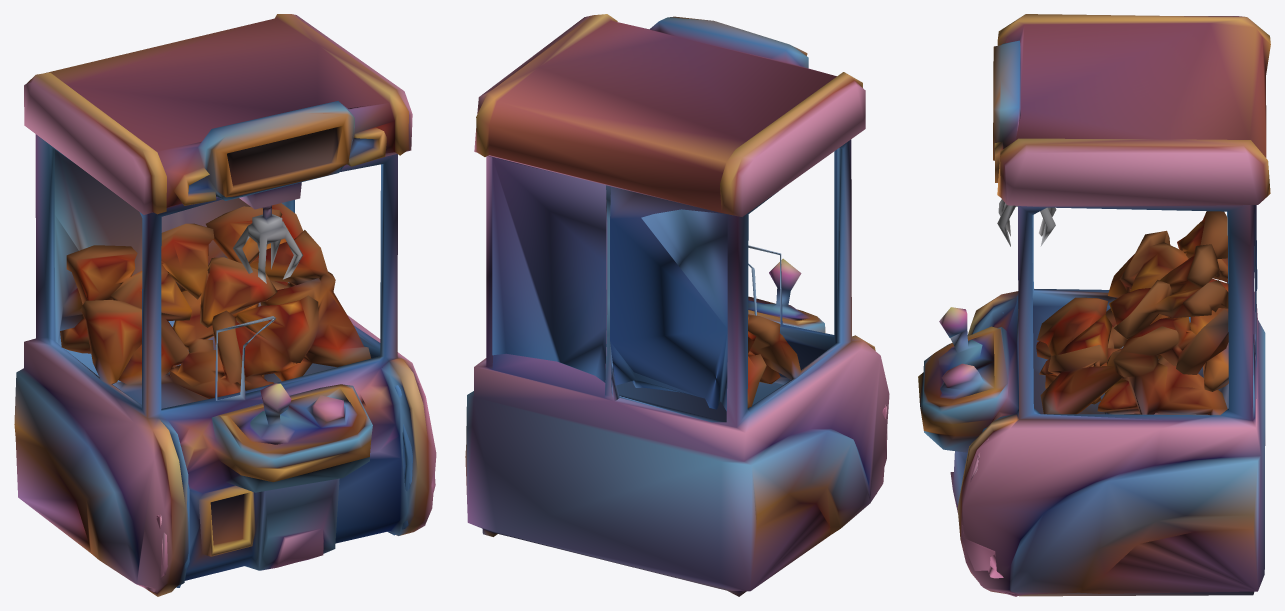
File: meshy-claw.glb
The picture shows the model from 3 angles, left to right: view 1: azimuth 30°, elevation 25°; view 2: azimuth 150°, elevation 25°; view 3: azimuth 270°, elevation 25°; orthographic projection. The views are drawn at different scales.
Parts seen in each view (by area): view 1: Mesh_0; view 2: Mesh_0; view 3: Mesh_0.
Part boxes in pixels (x1,y1,x2,y2): Mesh_0: (14,14,436,596); Mesh_0: (465,14,889,596); Mesh_0: (918,14,1270,596).
Size of the model in its own units: 1.28 by 1.9 by 1.3.
